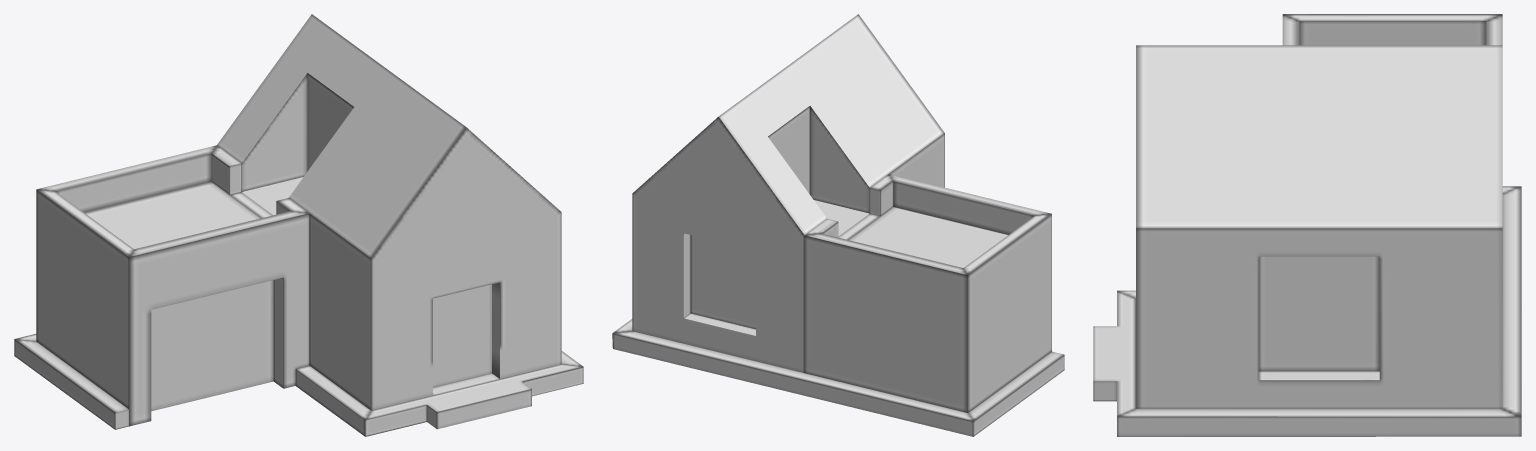
The model's file is House-05.fbx.
3 renders of one model, left to right at view 1: azimuth 30°, elevation 25°; view 2: azimuth 150°, elevation 25°; view 3: azimuth 270°, elevation 25°, orthographic. The views are drawn at different scales.
Visible parts, largest first — view 1: House_05; view 2: House_05; view 3: House_05.
Part boxes in pixels (x1,y1,x2,y2): House_05: (14, 14, 583, 436); House_05: (612, 14, 1064, 436); House_05: (1093, 14, 1521, 436).
Bounding box in the file's own units: 1.93 × 1.28 × 1.52.
